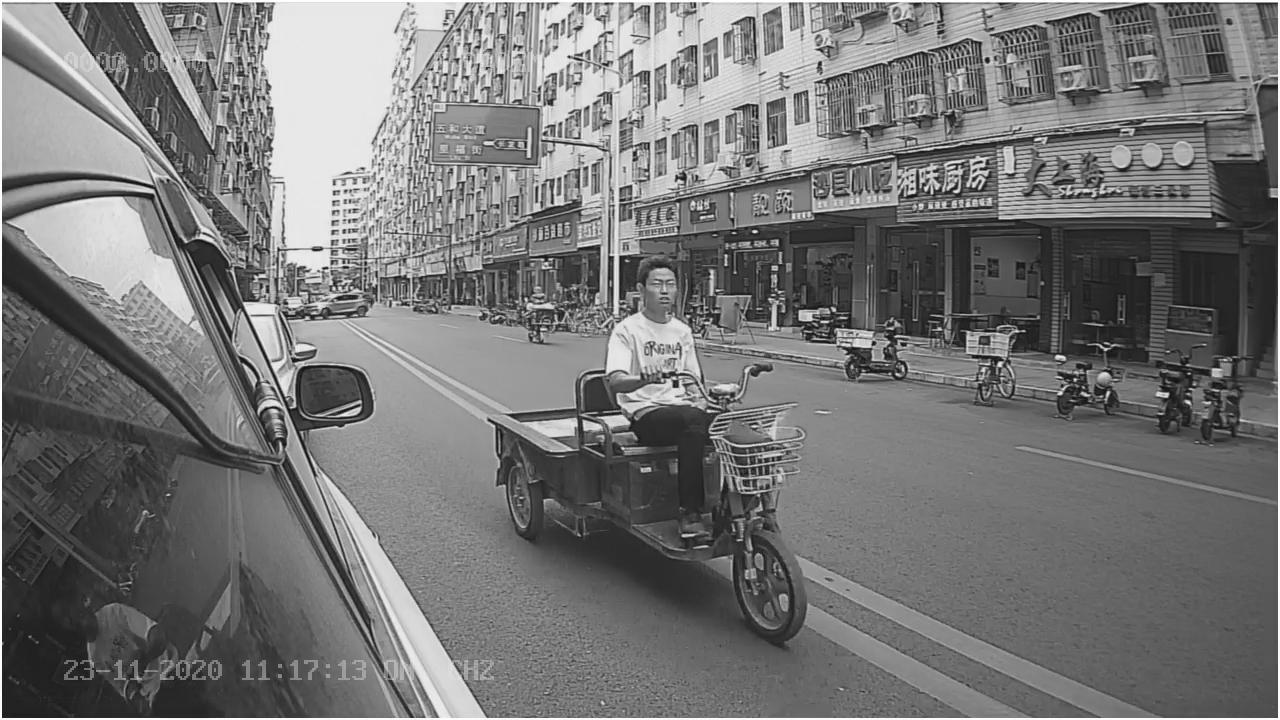person: (607, 252, 704, 371)
